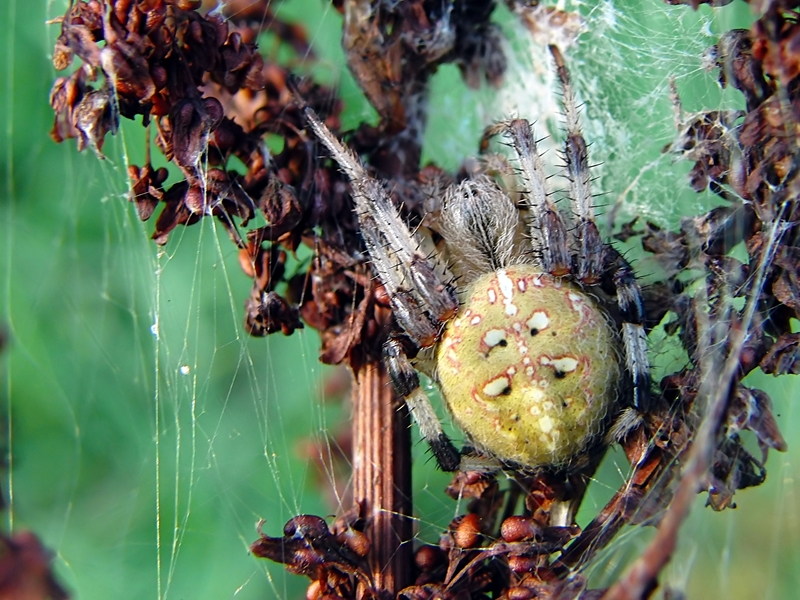spider: (271, 25, 695, 505)
